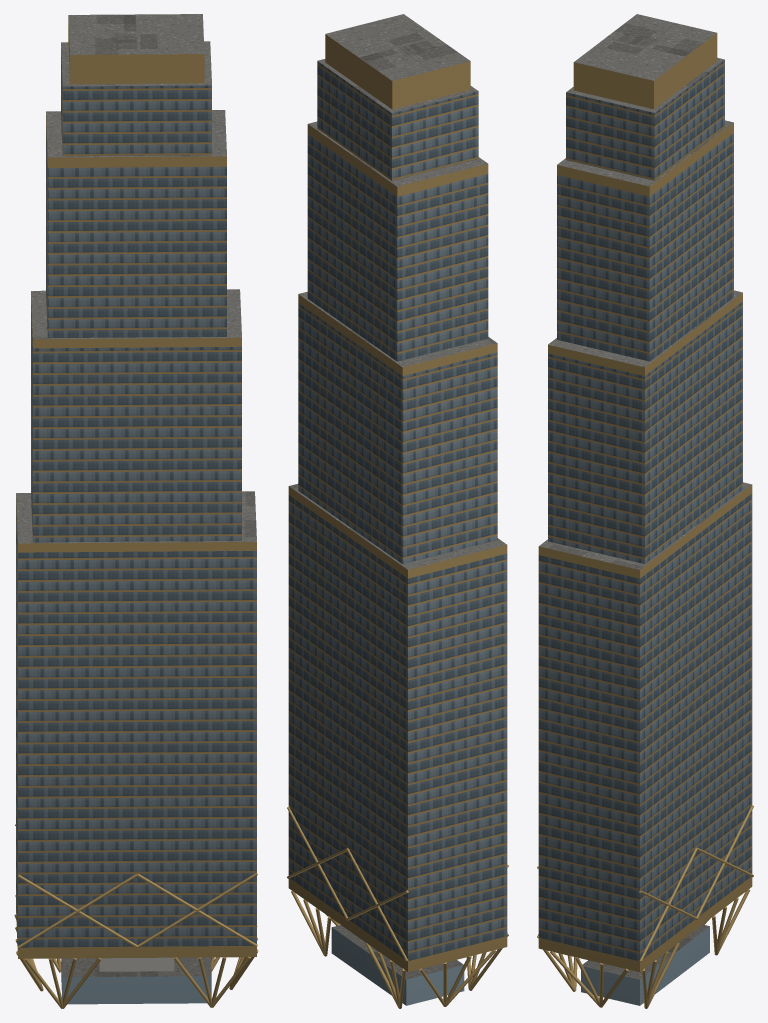
3 renders of one model, left to right at view 1: azimuth 30°, elevation 25°; view 2: azimuth 150°, elevation 25°; view 3: azimuth 270°, elevation 25°, orthographic. The views are drawn at different scales.
Parts seen in each view (by area): view 1: p270; view 2: p270; view 3: p270.
Part boxes in pixels (x1=…): p270: x1=14, y1=14, x2=258, y2=1008; p270: x1=287, y1=14, x2=508, y2=1008; p270: x1=537, y1=14, x2=753, y2=1008.
Bounding box in the file's own units: 108 × 423 × 89.92.
53 materials, 51 textured.
